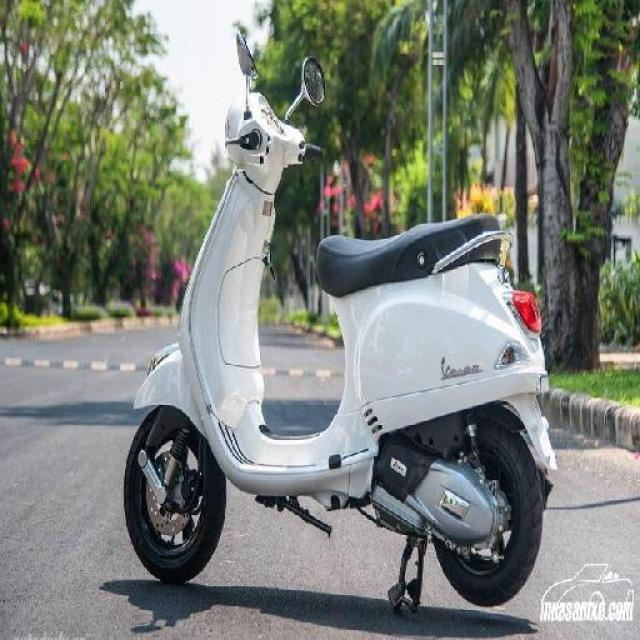All: (115, 91, 564, 611)
Head: (220, 94, 328, 182)
Tail: (451, 204, 526, 290)
